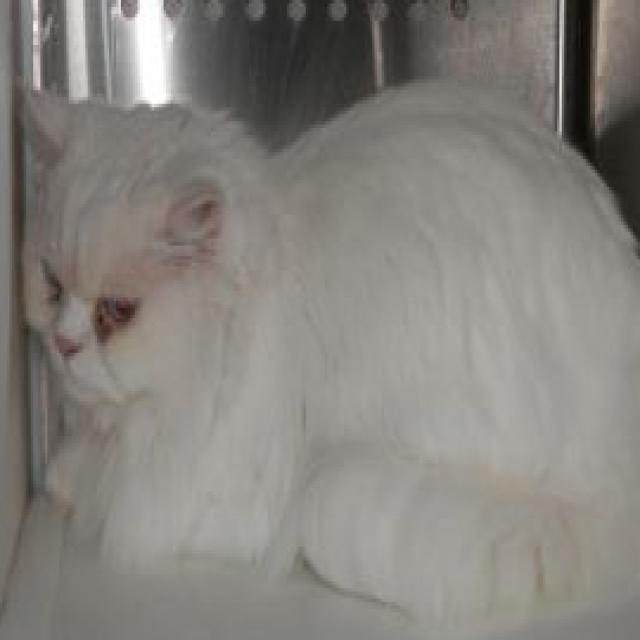Persian: (9, 66, 640, 636)
